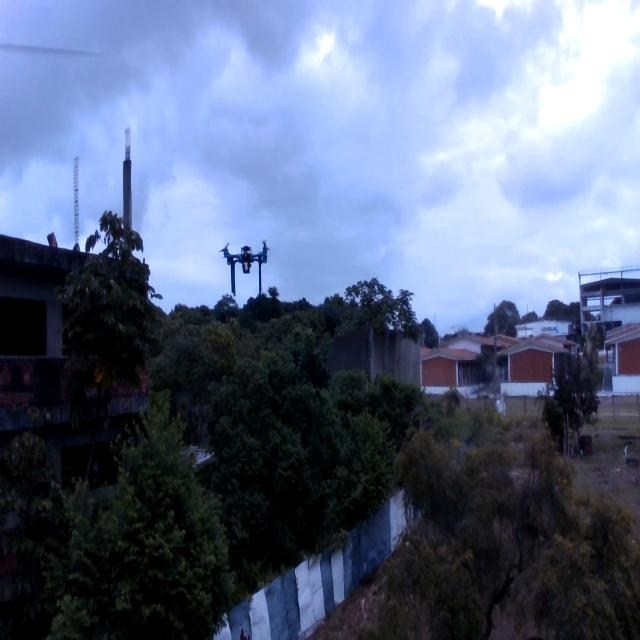-uav-: (213, 233, 274, 302)
